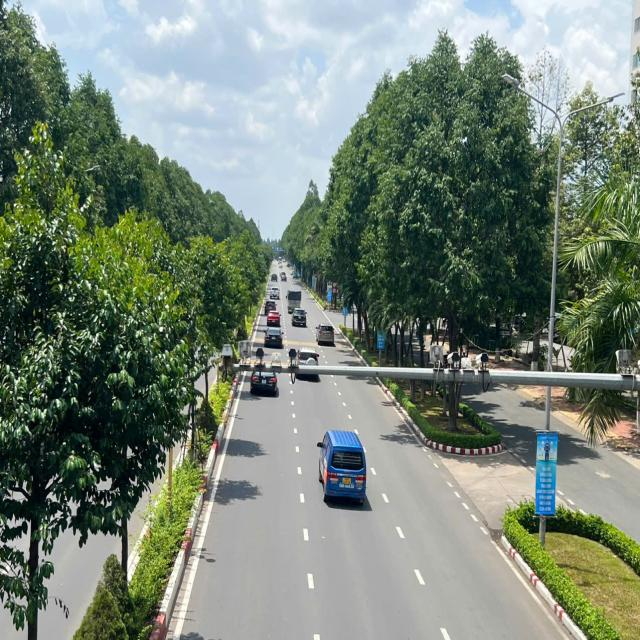ben: (285, 282, 304, 314)
car: (314, 426, 374, 505), (252, 355, 280, 399), (295, 342, 320, 383), (261, 321, 285, 348), (315, 319, 337, 347), (290, 302, 309, 331), (265, 305, 282, 329), (270, 282, 282, 302)
